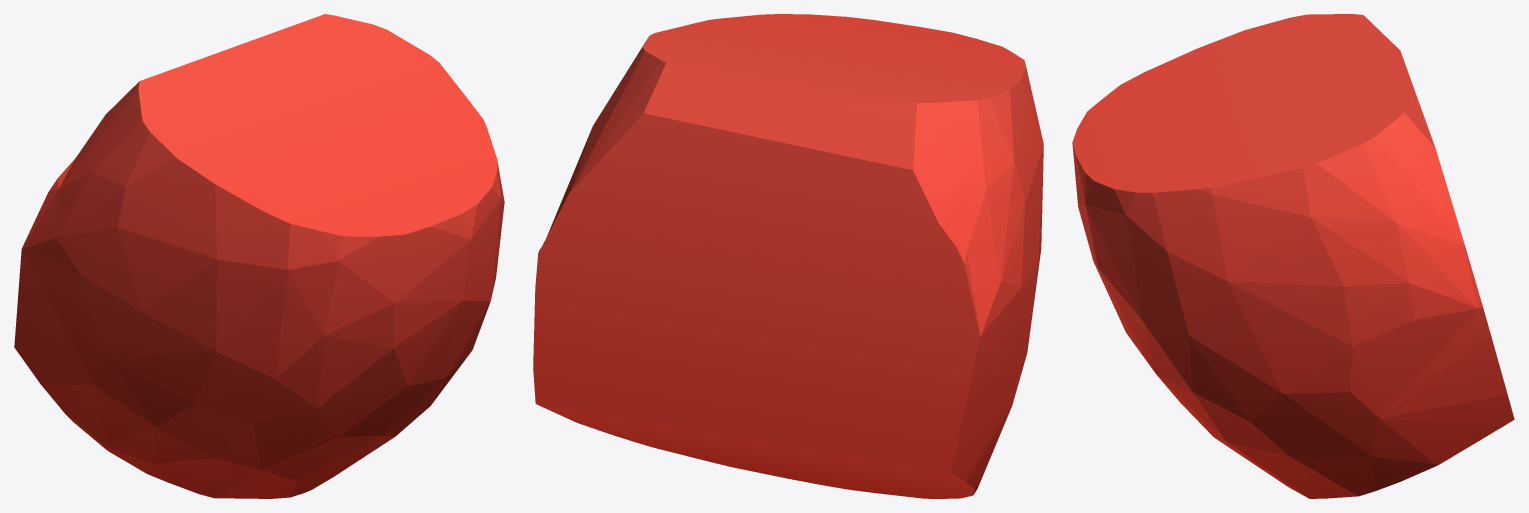
Rendered from HeartPart_2.fbx.
The picture shows the model from 3 angles, left to right: view 1: azimuth 30°, elevation 25°; view 2: azimuth 150°, elevation 25°; view 3: azimuth 270°, elevation 25°; orthographic projection. The views are drawn at different scales.
Visible parts, largest first — view 1: HeartPart_2; view 2: HeartPart_2; view 3: HeartPart_2.
Part boxes in pixels (x1,y1,x2,y2): HeartPart_2: (14, 14, 504, 498); HeartPart_2: (533, 14, 1043, 498); HeartPart_2: (1072, 14, 1514, 498).
Size of the model in its own units: 55.82 by 56.86 by 56.6.
1 material, 1 textured.
